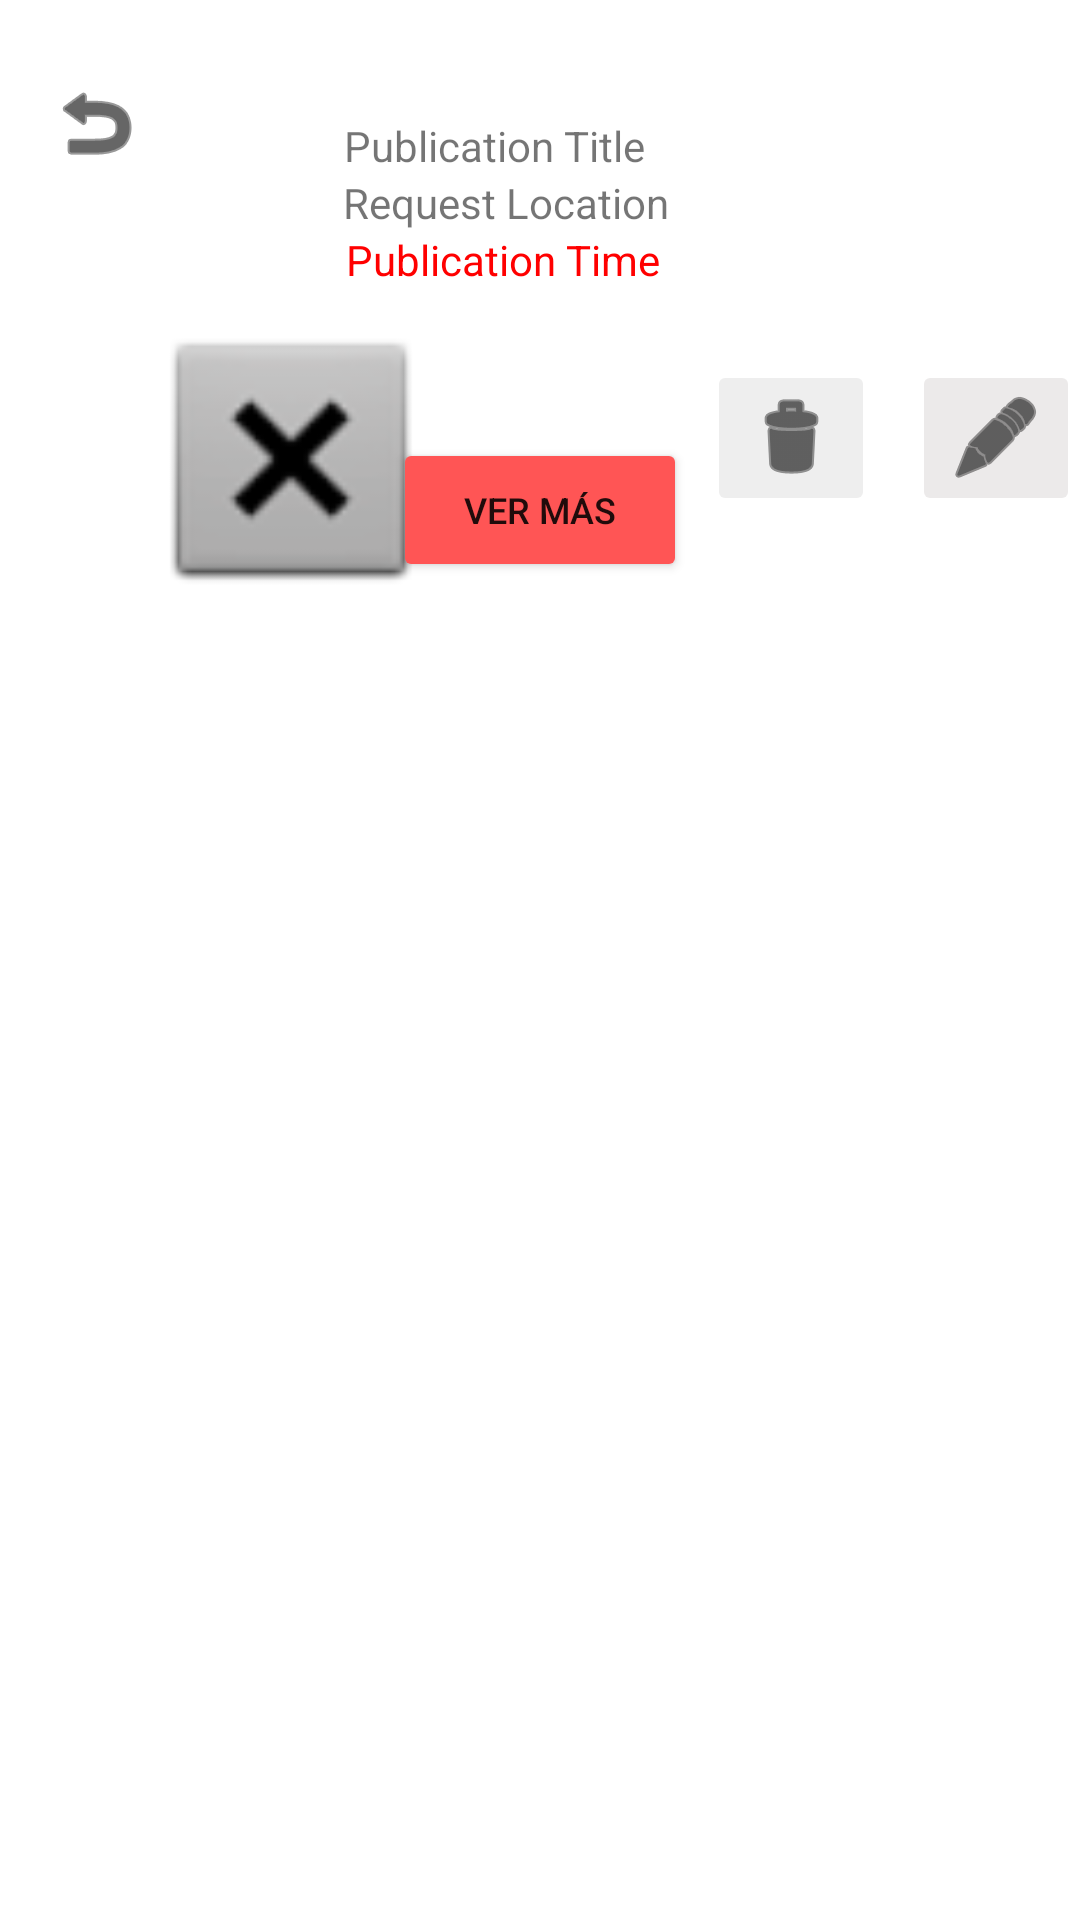

Screen size 1080*1920. Icon name, then its box in pixels as (x1, y1, x2, y2):
Button to previous page: (63, 92, 132, 155)
Delete Publication Button: (764, 399, 819, 474)
edit: (924, 378, 1068, 498)
